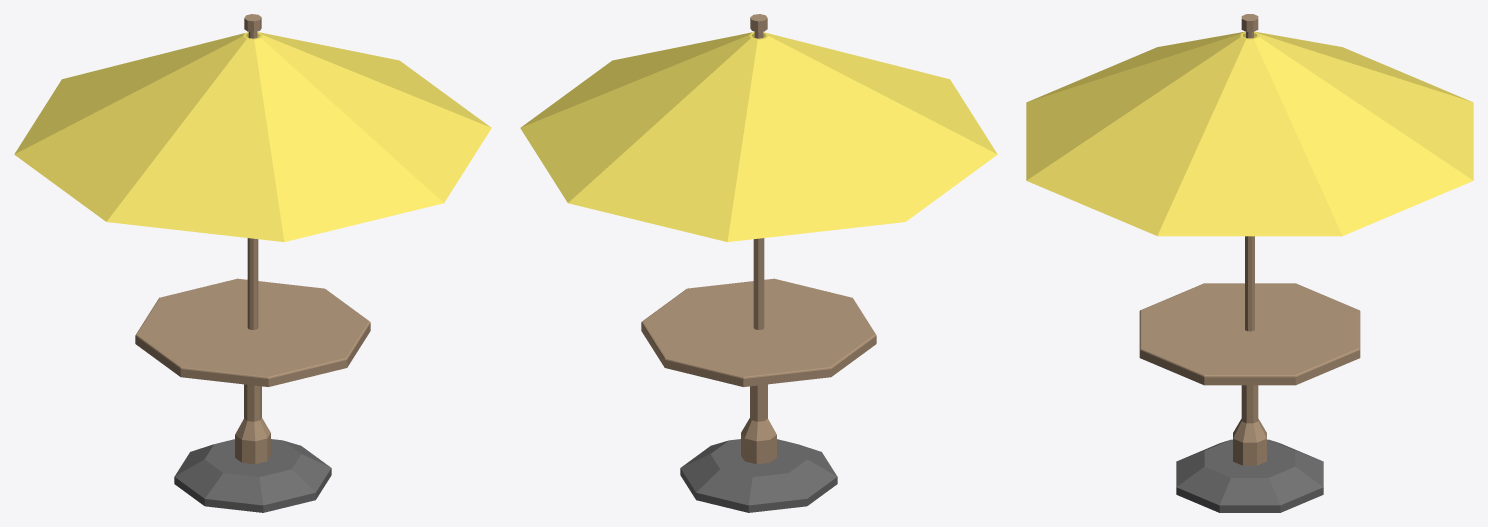
Rendered from umbrellaTable.fbx.
3 renders of one model, left to right at view 1: azimuth 30°, elevation 25°; view 2: azimuth 150°, elevation 25°; view 3: azimuth 270°, elevation 25°, orthographic.
Visible parts, largest first — view 1: digitalBar.001; view 2: digitalBar.001; view 3: digitalBar.001.
Boxes of the visible parts, x1,y1,x2,y2 form: digitalBar.001: [14, 14, 491, 512]; digitalBar.001: [520, 14, 997, 512]; digitalBar.001: [1026, 14, 1473, 512].
Bounding box in the file's own units: 207 × 237 × 207.
